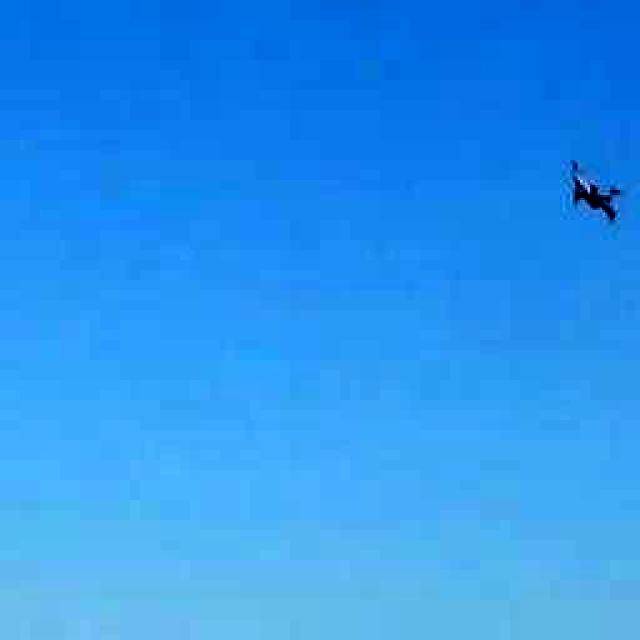bird: (531, 139, 640, 236)
